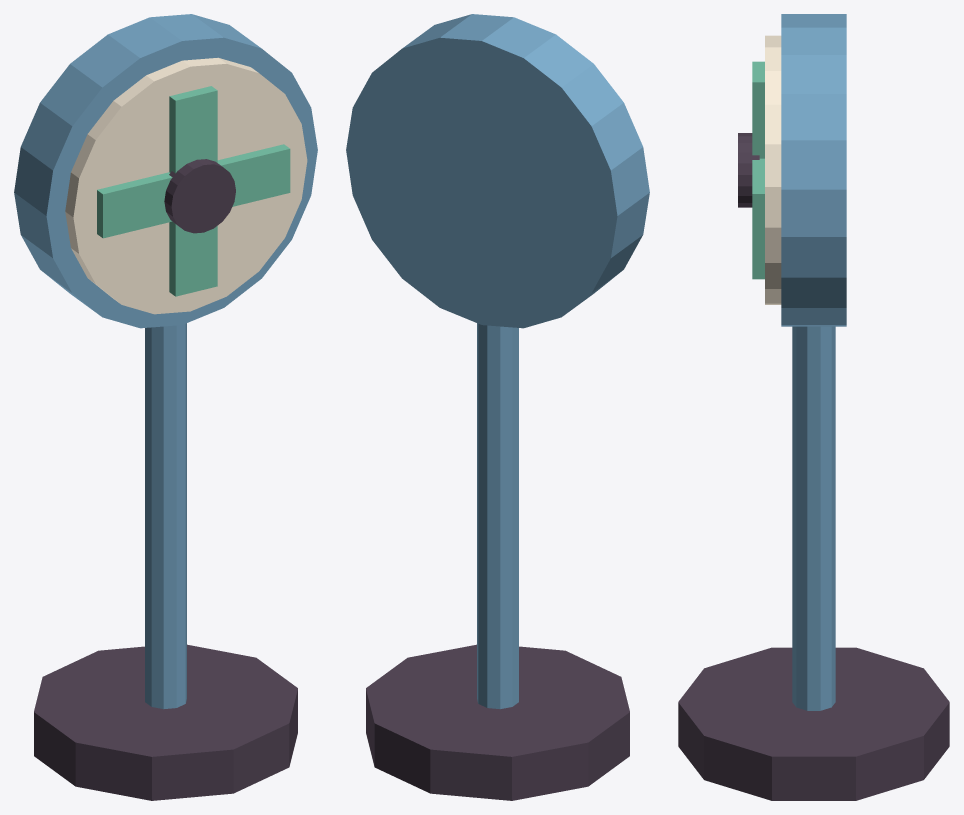
Rendered from prop_kipas_lv2.fbx.
The picture shows the model from 3 angles, left to right: view 1: azimuth 30°, elevation 25°; view 2: azimuth 150°, elevation 25°; view 3: azimuth 270°, elevation 25°; orthographic projection.
Parts seen in each view (by area): view 1: prop_kipas_lv2; view 2: prop_kipas_lv2; view 3: prop_kipas_lv2.
Part boxes in pixels (left/top/right/bottom): prop_kipas_lv2: left=14, top=14, right=317, bottom=800; prop_kipas_lv2: left=346, top=14, right=649, bottom=800; prop_kipas_lv2: left=678, top=14, right=949, bottom=800.
Size of the model in its own units: 58 by 146 by 50.
1 material, 1 textured.
